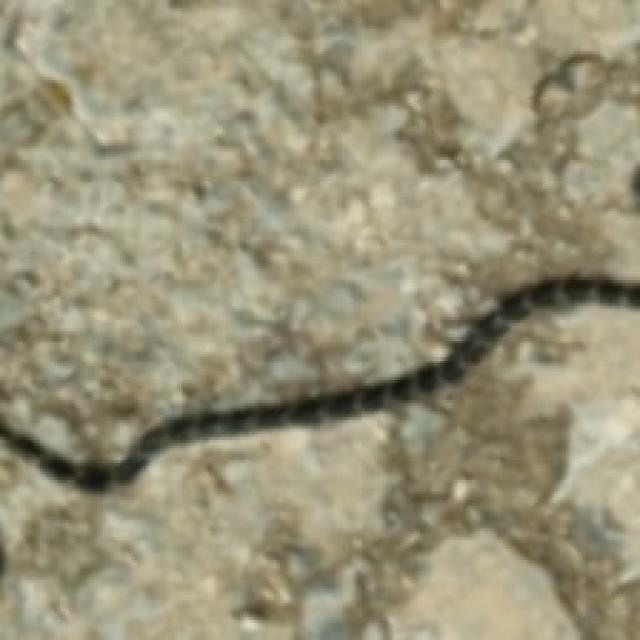king cobra: (0, 280, 640, 489)
